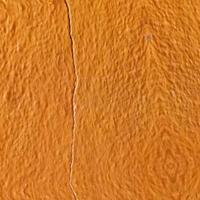crack: (53, 0, 93, 93)
